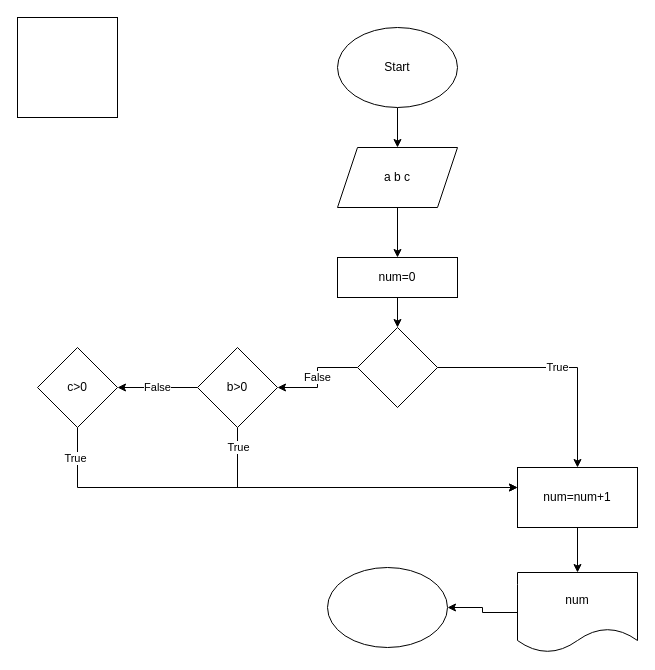
Image size: 655x670. Some labels were removed from this diagram. Each missing label, with the centre of its shape:
"a>0" belongs at point (397, 367).
"End" belongs at point (387, 607).
"verilmish 3 eded icherisinden musbet olanlarinin sayini tap" belongs at point (67, 67).
